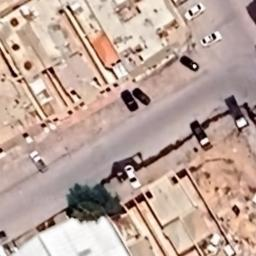SUV: (120, 88, 140, 112)
pickup: (29, 150, 48, 174), (180, 54, 200, 72)
sedan: (183, 2, 207, 22), (124, 165, 142, 189), (131, 86, 151, 106), (201, 30, 223, 48)
truck: (224, 94, 250, 132), (189, 118, 213, 152)
